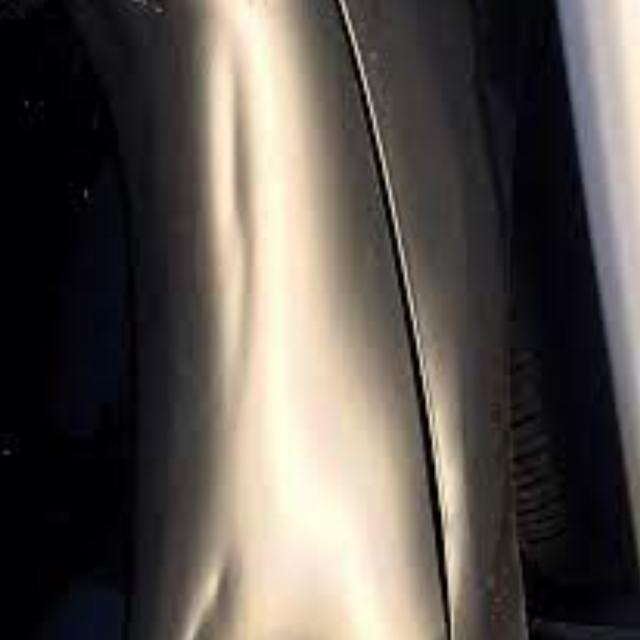dents: (215, 44, 292, 380), (153, 527, 266, 640)
